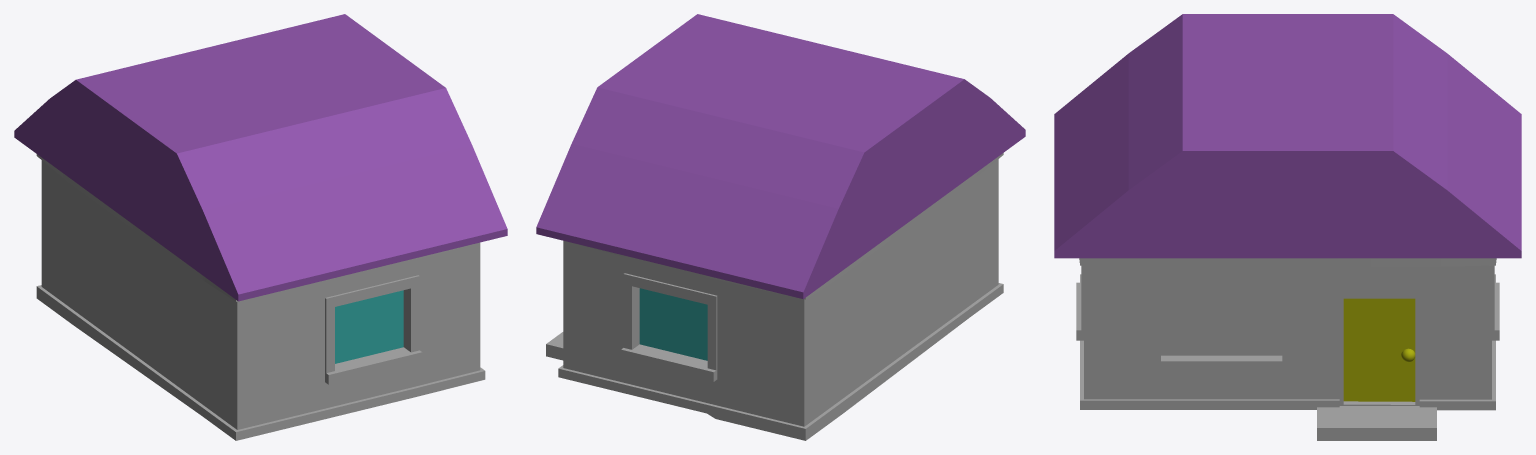
Rendered from House_02.fbx.
The picture shows the model from 3 angles, left to right: view 1: azimuth 30°, elevation 25°; view 2: azimuth 150°, elevation 25°; view 3: azimuth 270°, elevation 25°; orthographic projection. The views are drawn at different scales.
Visible parts, largest first — view 1: pCube18; view 2: pCube18; view 3: pCube18.
Part boxes in pixels (x1,y1,x2,y2): pCube18: (14, 14, 507, 440); pCube18: (536, 14, 1025, 440); pCube18: (1054, 14, 1521, 440).
Bounding box in the file's own units: 550 × 712 × 461.
